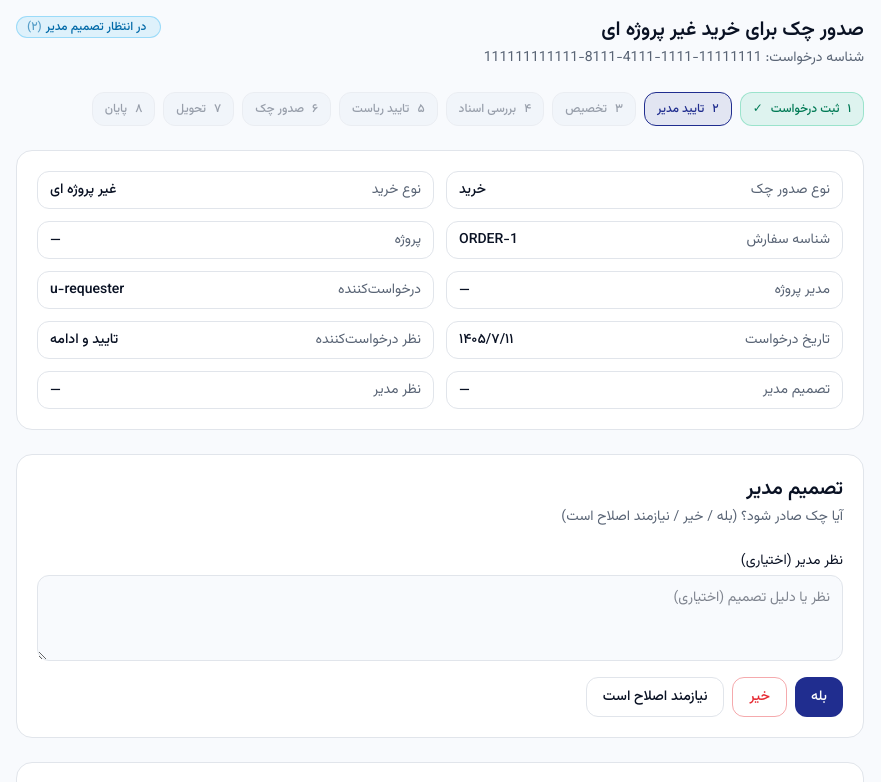
Test: Phase F1 — CheckRequestDetailView (state-aware) › surfaces the server’s SELF-APPROVAL refusal on the decision panel
Click the button with test id "financial-check-approve": (819, 697) [795,677,843,717]
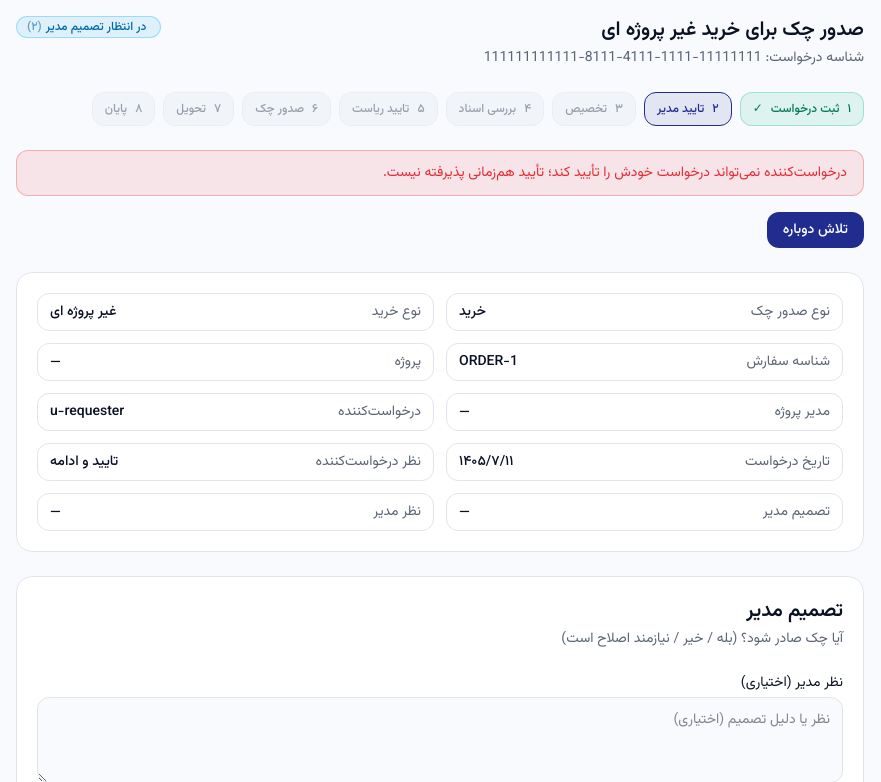
expect the element with test id "financial-check-detail-error" shows "درخواست‌کننده نمی‌تواند درخواست خودش را تأیید کند": met, box [383,162,847,184]
